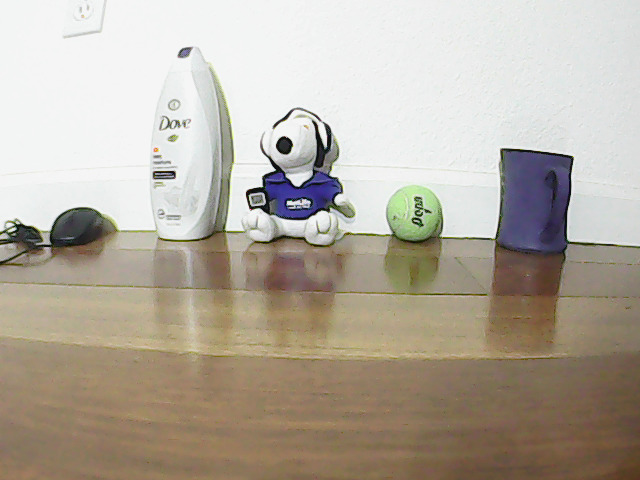ball: (387, 186, 448, 244)
mouse: (43, 201, 109, 249)
mug: (494, 136, 574, 258)
snoopy: (253, 107, 354, 241)
soap: (155, 53, 221, 248)
